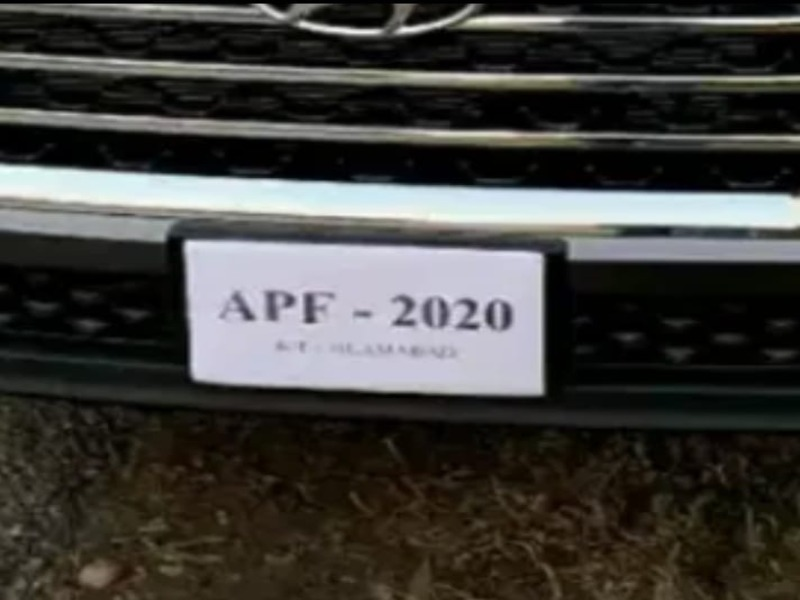License Plate: (162, 216, 578, 411)
